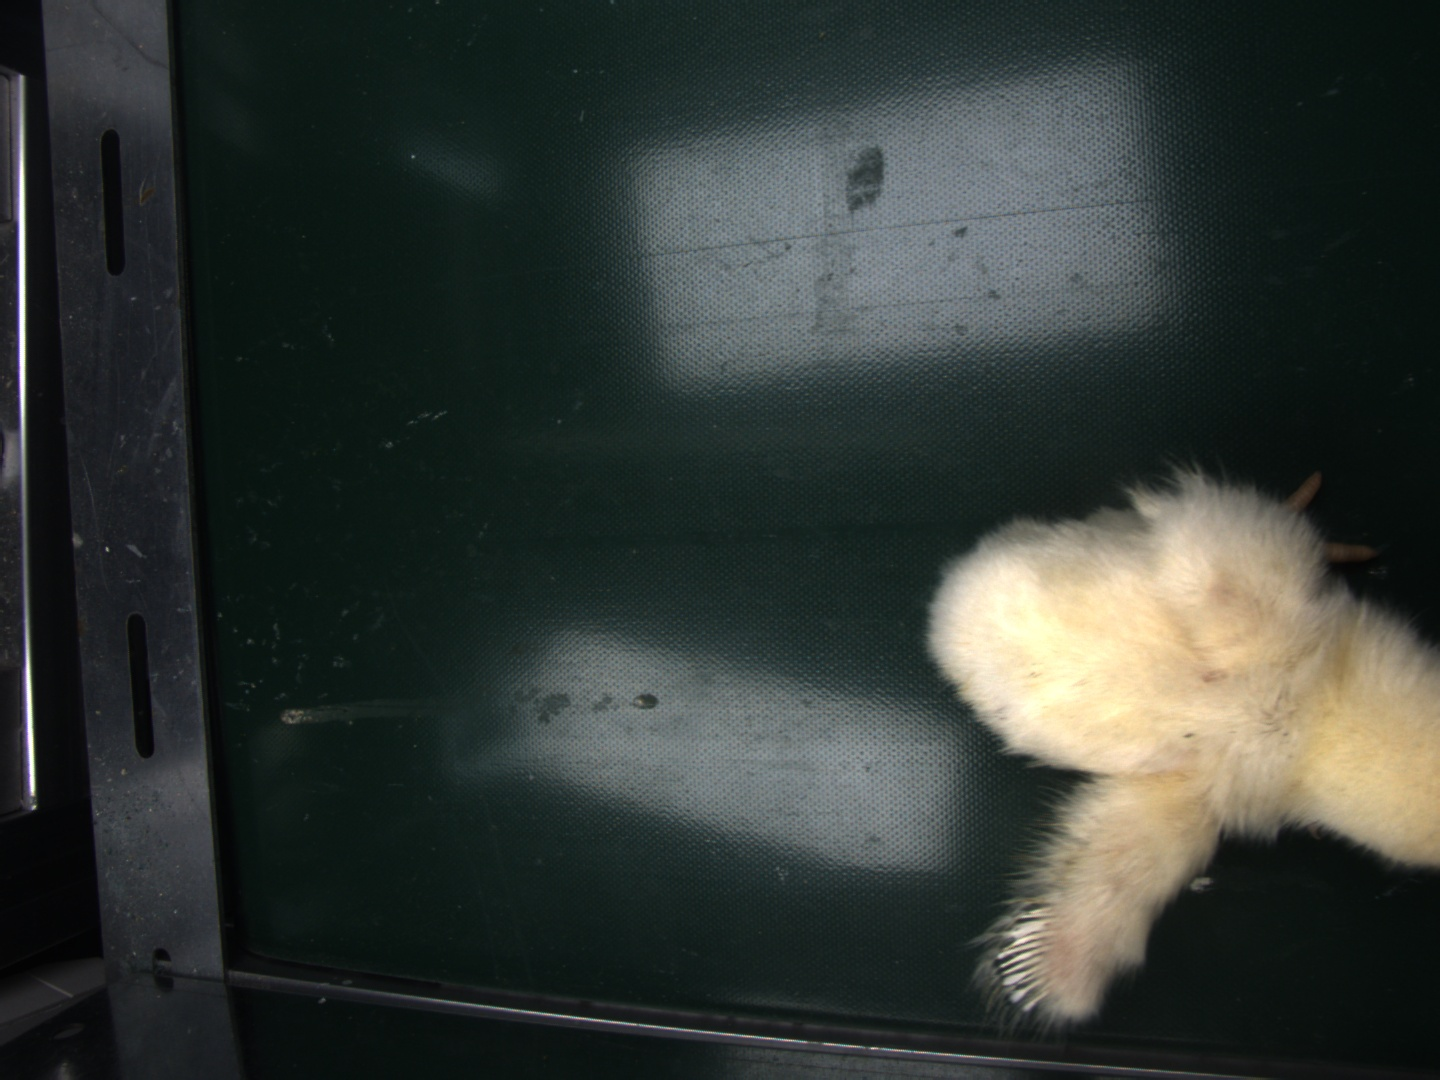male: (1000, 905, 1057, 1009)
